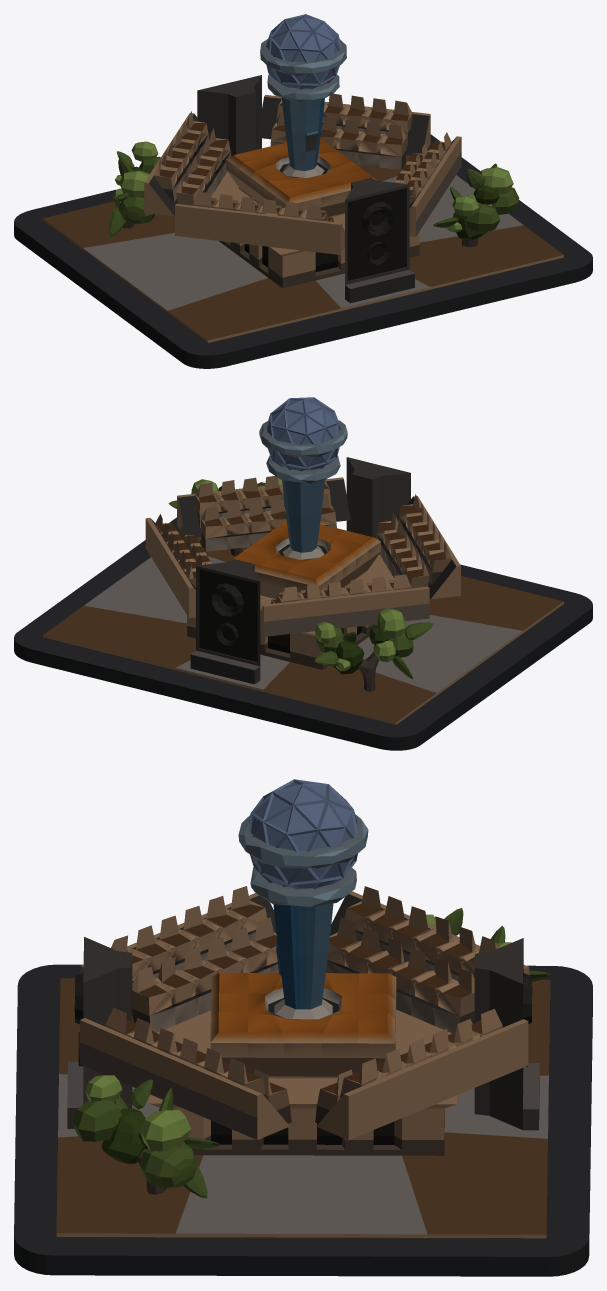
3 views of the same model, one above another, from view 1: azimuth 30°, elevation 25°; view 2: azimuth 150°, elevation 25°; view 3: azimuth 270°, elevation 25° (orthographic). The views are drawn at different scales.
Parts seen in each view (by area): view 1: Plane.034; view 2: Plane.034; view 3: Plane.034.
Boxes of the visible parts, x1=… form: Plane.034: x1=14, y1=14, x2=592, y2=368; Plane.034: x1=14, y1=397, x2=592, y2=750; Plane.034: x1=14, y1=779, x2=592, y2=1276.
Size of the model in its own units: 3.01 by 1.67 by 2.52.
1 material, 1 textured.
